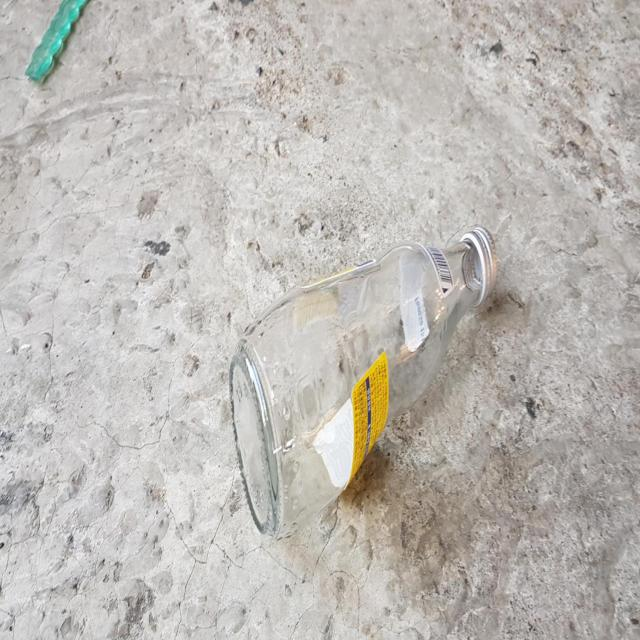glass: (230, 226, 498, 537)
